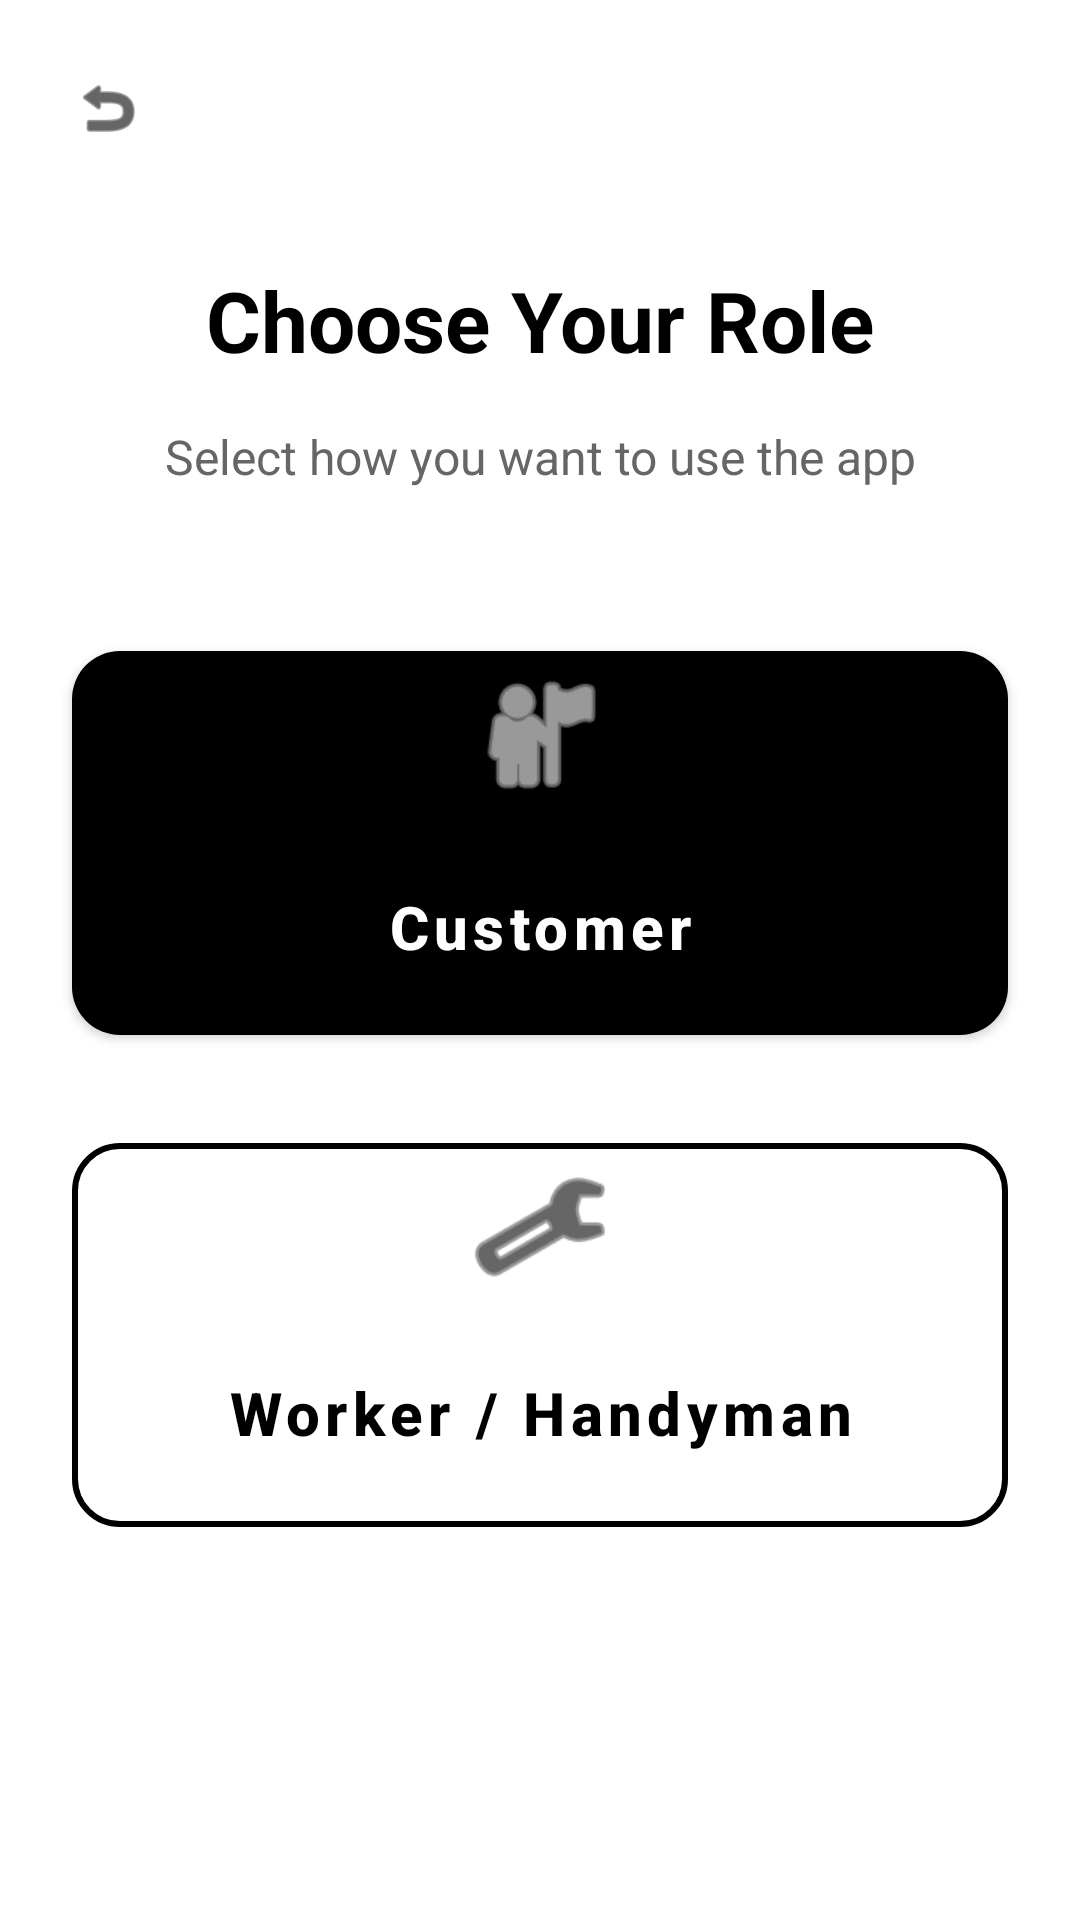

Named icons in this screenshot (1080px×1920px) and their bounding boxes, (x1, y1, x2, y2):
Back: (83, 85, 135, 132)
